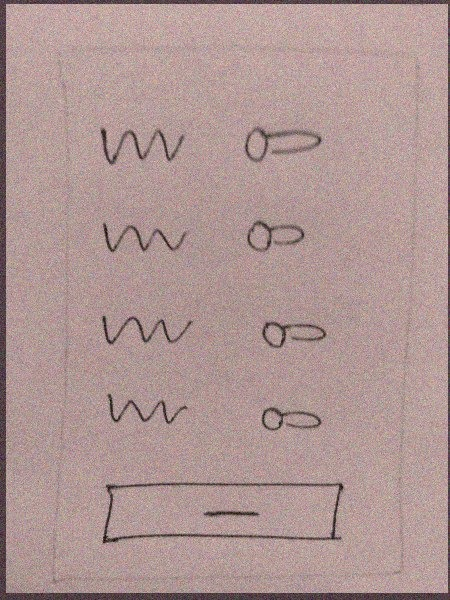button: (92, 471, 354, 550)
switch: (234, 113, 334, 170), (251, 306, 339, 358), (241, 210, 314, 271), (251, 395, 337, 445)
text: (88, 116, 203, 173), (93, 209, 202, 264), (95, 300, 204, 355), (95, 383, 206, 432)
